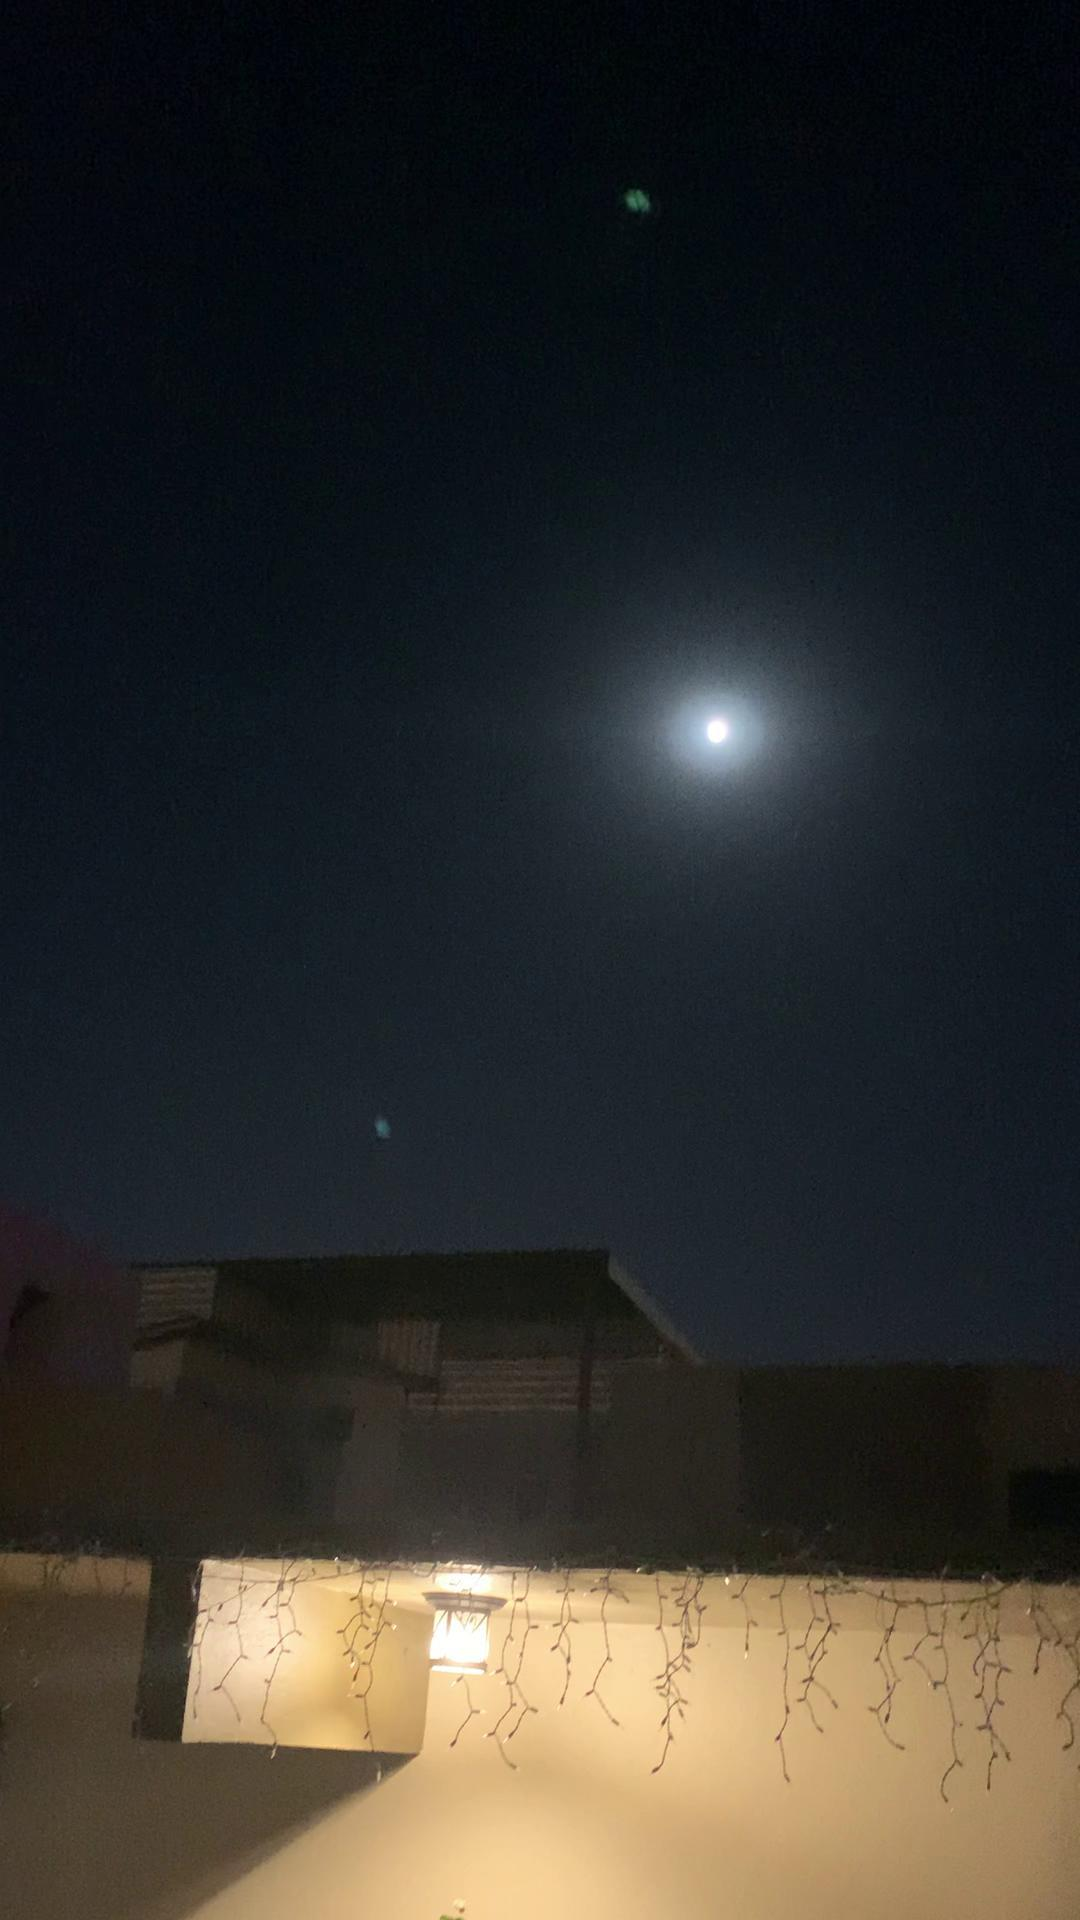moon: (675, 691, 762, 770)
